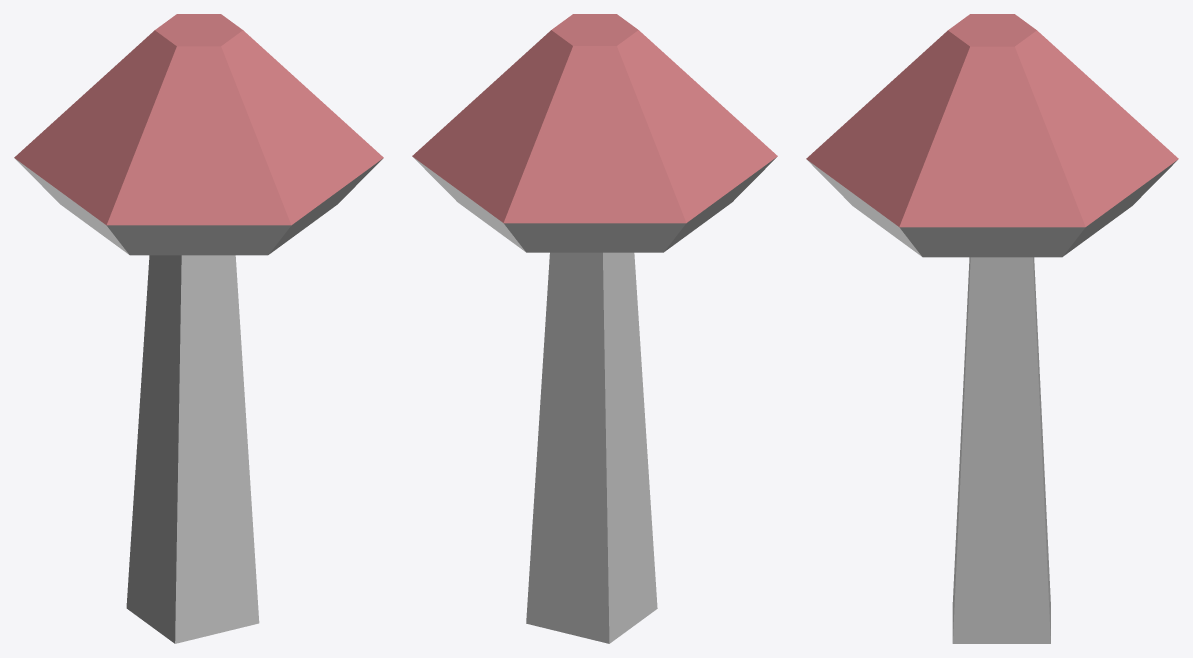
Rendered from mushroom_redTall.glb.
The picture shows the model from 3 angles, left to right: view 1: azimuth 30°, elevation 25°; view 2: azimuth 150°, elevation 25°; view 3: azimuth 270°, elevation 25°; orthographic projection.
Visible parts, largest first — view 1: mushroom_redTall; view 2: mushroom_redTall; view 3: mushroom_redTall.
Boxes of the visible parts, bbox=[...] form: mushroom_redTall: bbox=[14, 14, 383, 643]; mushroom_redTall: bbox=[412, 14, 777, 643]; mushroom_redTall: bbox=[806, 14, 1178, 643].
Size of the model in its own units: 0.1235 by 0.2505 by 0.1426.
